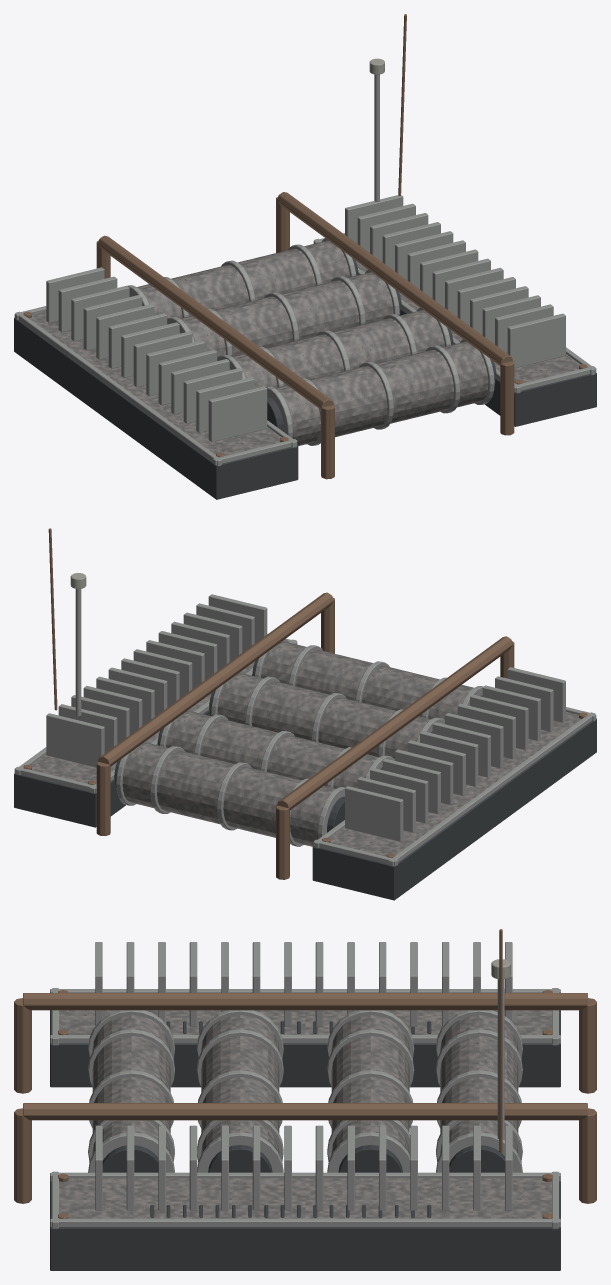
The model's file is helium-extractor.glb.
3 renders of one model, top to bottom at view 1: azimuth 30°, elevation 25°; view 2: azimuth 150°, elevation 25°; view 3: azimuth 270°, elevation 25°, orthographic. The views are drawn at different scales.
Parts seen in each view (by area): view 1: helium-extractor • editable solid geometry; view 2: helium-extractor • editable solid geometry; view 3: helium-extractor • editable solid geometry.
Part boxes in pixels (x1=…): helium-extractor • editable solid geometry: x1=14, y1=14, x2=596, y2=499; helium-extractor • editable solid geometry: x1=14, y1=528, x2=596, y2=900; helium-extractor • editable solid geometry: x1=14, y1=929, x2=596, y2=1270.
Size of the model in its own units: 5.1 by 3.39 by 5.36.
5 materials, 1 textured.
